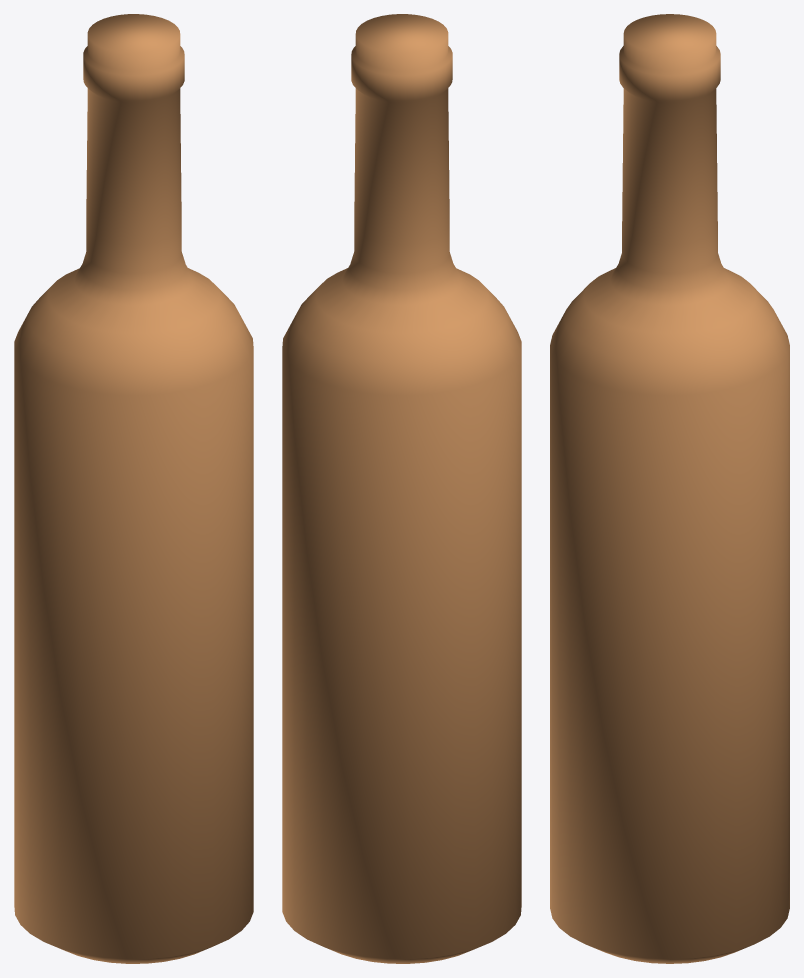
Rendered from botella.fbx.
The picture shows the model from 3 angles, left to right: view 1: azimuth 30°, elevation 25°; view 2: azimuth 150°, elevation 25°; view 3: azimuth 270°, elevation 25°; orthographic projection.
Visible parts, largest first — view 1: Cylinder; view 2: Cylinder; view 3: Cylinder.
Part boxes in pixels (box(x1,y1,x2,y2)): Cylinder: box(14, 14, 253, 963); Cylinder: box(282, 14, 521, 963); Cylinder: box(550, 14, 789, 963).
Bounding box in the file's own units: 269 × 1112 × 269.
